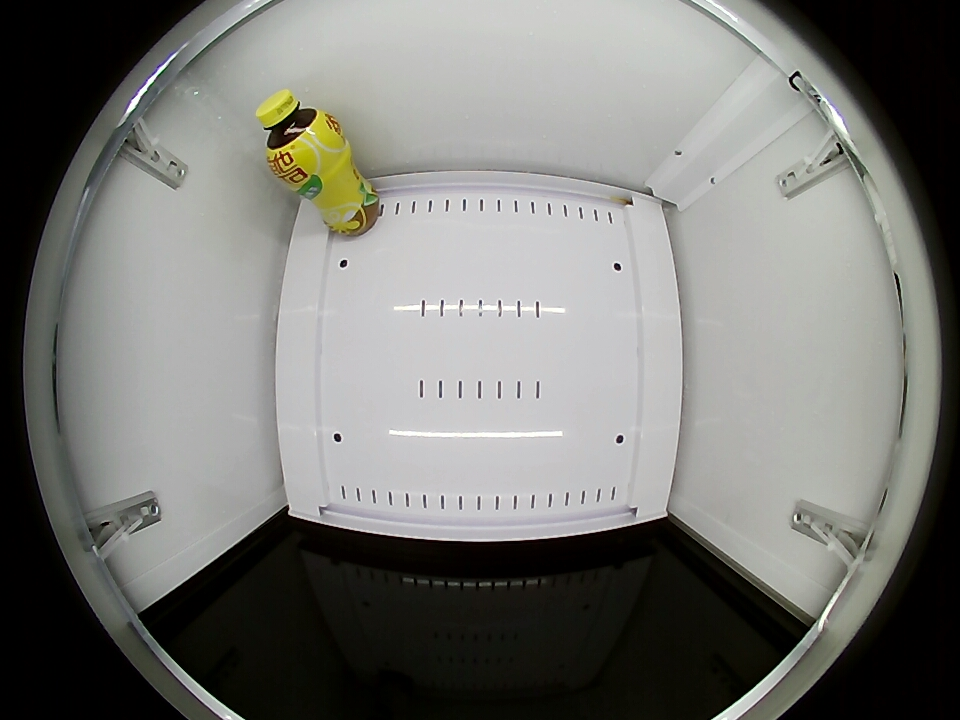weitaningmeng-bottle: (257, 88, 337, 177)
